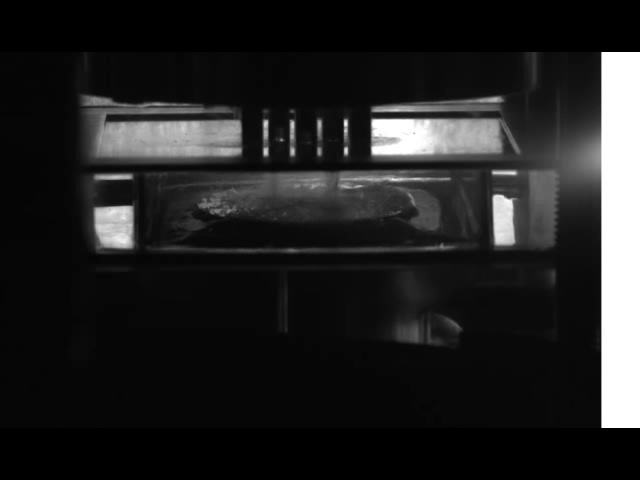Zona de teste: (194, 178, 420, 229)
